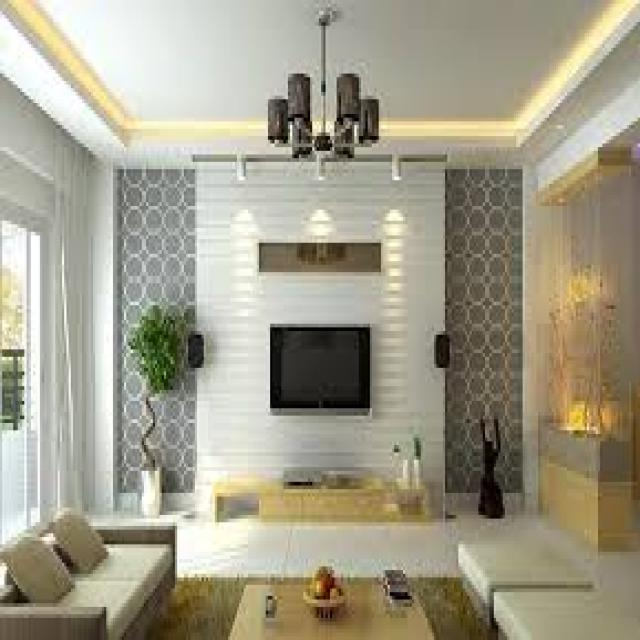Lamp: (257, 62, 388, 163), (307, 152, 341, 190), (383, 148, 404, 185), (232, 152, 248, 183)
Sofa: (2, 498, 185, 640)
Table: (240, 558, 442, 640)
